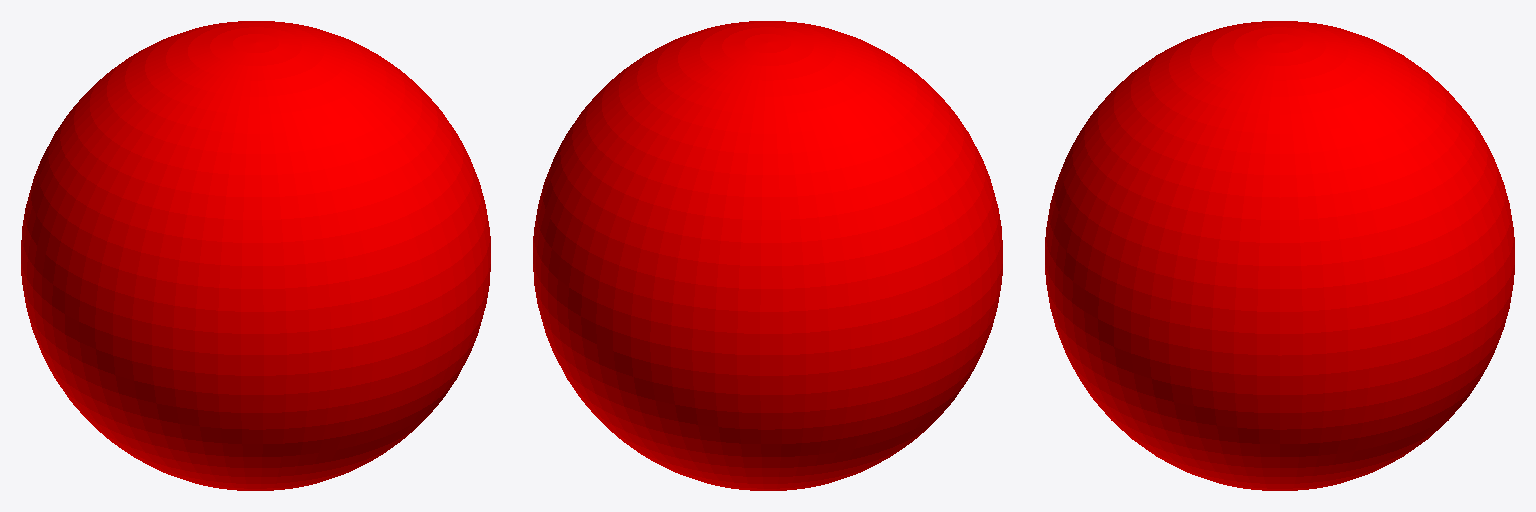
File: RedBall.obj
The picture shows the model from 3 angles: view 1: azimuth 30°, elevation 25°; view 2: azimuth 150°, elevation 25°; view 3: azimuth 270°, elevation 25°; orthographic projection.
Visible parts, largest first — view 1: object_1; view 2: object_1; view 3: object_1.
Part boxes in pixels (x1,y1,x2,y2): object_1: (21,21,490,490); object_1: (533,21,1002,490); object_1: (1045,21,1514,490).
Size of the model in its own units: 2 by 2 by 2.